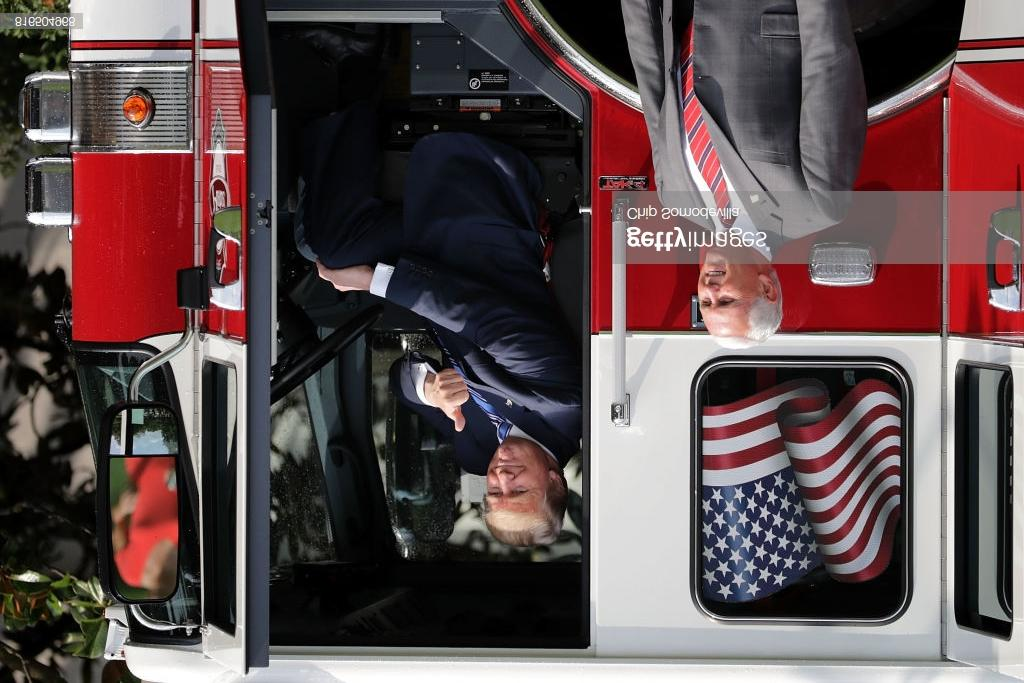thumbsdown: (436, 369, 469, 433)
